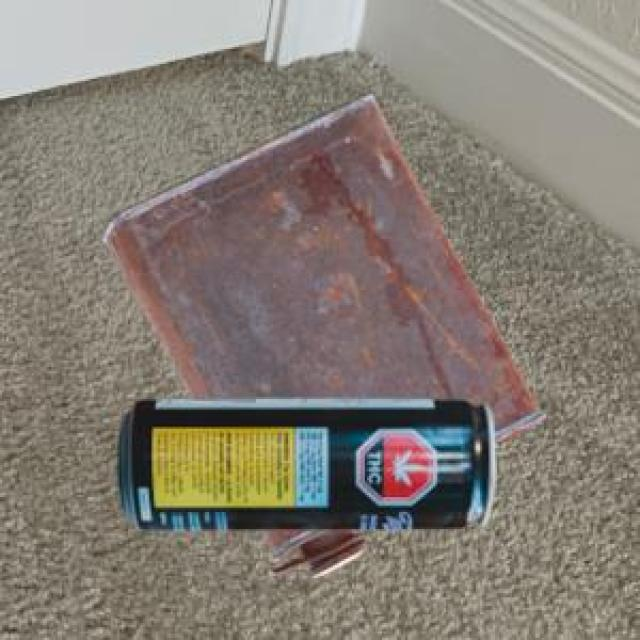logam: (99, 91, 541, 575), (116, 396, 492, 528)
